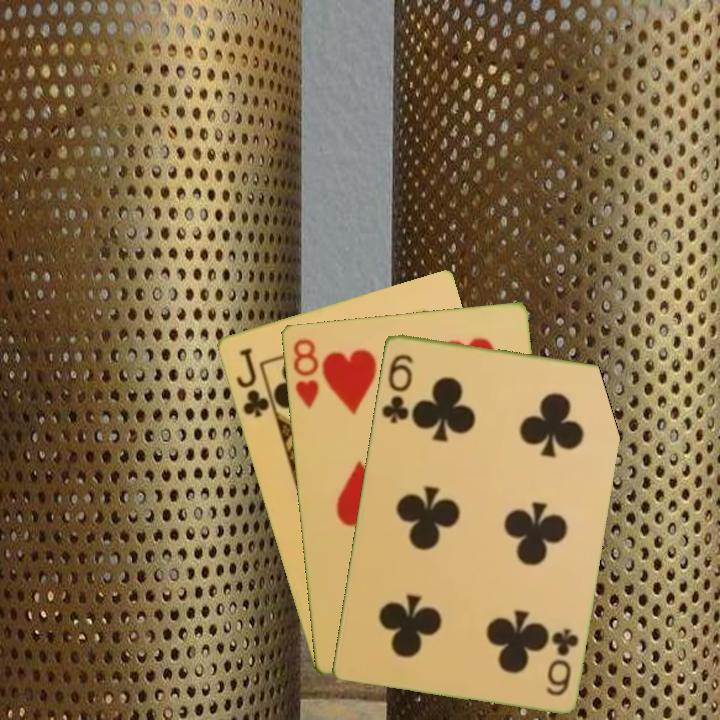6c: (542, 624, 581, 699), (378, 350, 416, 426)
8h: (289, 335, 321, 412)
Jc: (232, 344, 272, 420)
